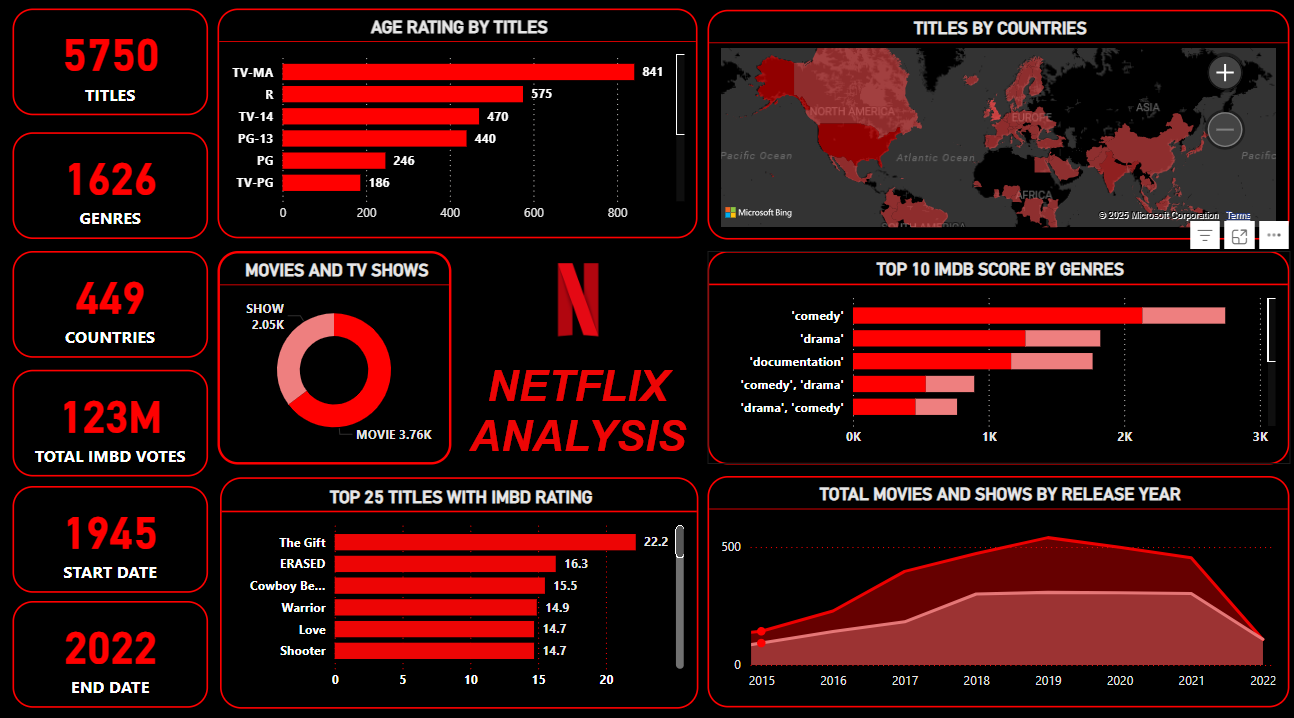

This screenshot's page, from the dashboard's own definition file:
{"tool":"powerbi","page":{"name":"Page 1","canvas":[1280,720],"ordinal":0},"visuals":[{"type":"filledMap","title":"TITLES BY COUNTRIES","fields":{"Category":["netflix.production_countries"]},"box":[699.9,18.7,571.4,225.8],"z":0},{"type":"image","box":[455.4,249.5,235.8,108.5],"z":1000},{"type":"barChart","title":"AGE RATING BY TITLES ","fields":{"Category":["netflix.age_certification"],"Y":["CountNonNull(netflix.title)"]},"box":[218.3,17.5,471.6,225.8],"z":2000},{"type":"donutChart","title":"MOVIES AND TV SHOWS","fields":{"Category":["netflix.type"],"Y":["CountNonNull(netflix.title)"]},"box":[218.3,255.8,229.6,209.6],"z":3000},{"type":"barChart","title":"TOP 25 TITLES WITH IMBD RATING","fields":{"Category":["netflix.title"],"Y":["Sum(netflix.imdb_score)"]},"box":[220.8,476.6,470.3,227.1],"z":4000},{"type":"areaChart","title":"TOTAL MOVIES AND SHOWS BY RELEASE YEAR","fields":{"Category":["netflix.release_year"],"Y":["CountNonNull(netflix.title)"],"Series":["netflix.type"]},"box":[699.9,476.6,571.4,227.1],"z":5000},{"type":"barChart","title":"TOP 10 IMDB SCORE BY GENRES","fields":{"Category":["netflix.genres"],"Y":["Sum(netflix.imdb_score)"],"Series":["netflix.type"]},"box":[699.9,255.8,571.4,209.6],"z":6000},{"type":"card","fields":{"Values":["Count(netflix.title)"]},"box":[17.5,17.5,192.1,104.8],"z":6001},{"type":"card","fields":{"Values":["Count(netflix.genres)"]},"box":[17.5,138.5,192.1,104.8],"z":6002},{"type":"card","fields":{"Values":["Min(netflix.release_year)"]},"box":[17.5,485.3,192.1,104.8],"z":6003},{"type":"card","fields":{"Values":["Max(netflix.release_year)"]},"box":[17.5,598.8,192.1,104.8],"z":6004},{"type":"card","fields":{"Values":["Count(netflix.production_countries)"]},"box":[17.5,255.8,192.1,104.8],"z":6005},{"type":"card","fields":{"Values":["Sum(netflix.imdb_votes)"]},"box":[17.5,371.8,192.1,104.8],"z":6006},{"type":"textbox","box":[456.6,358.1,230.8,116],"z":6007}]}

Visuals, with their boxes in screenshot pixels (x1, y1, x2, y2), scaled from the page's 1280x720 canvas onto the 1294x718 screenshot:
"TITLES BY COUNTRIES" filledMap: crop(708, 19, 1285, 244)
image: crop(460, 249, 699, 357)
"AGE RATING BY TITLES " barChart: crop(221, 17, 697, 243)
"MOVIES AND TV SHOWS" donutChart: crop(221, 255, 453, 464)
"TOP 25 TITLES WITH IMBD RATING" barChart: crop(223, 475, 699, 702)
"TOTAL MOVIES AND SHOWS BY RELEASE YEAR" areaChart: crop(708, 475, 1285, 702)
"TOP 10 IMDB SCORE BY GENRES" barChart: crop(708, 255, 1285, 464)
card - Count(netflix.title): crop(18, 17, 212, 122)
card - Count(netflix.genres): crop(18, 138, 212, 243)
card - Min(netflix.release_year): crop(18, 484, 212, 588)
card - Max(netflix.release_year): crop(18, 597, 212, 702)
card - Count(netflix.production_countries): crop(18, 255, 212, 360)
card - Sum(netflix.imdb_votes): crop(18, 371, 212, 475)
textbox: crop(462, 357, 695, 473)
